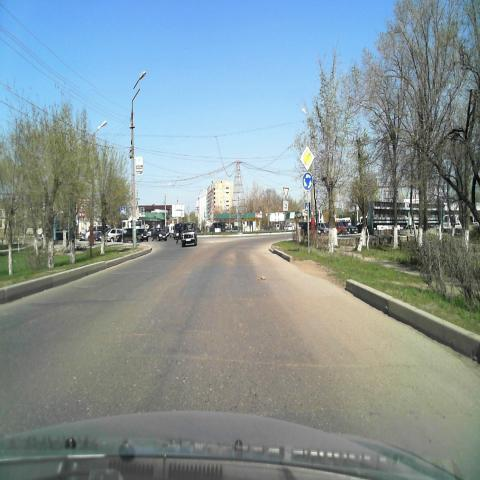4_3: (302, 172, 313, 191)
